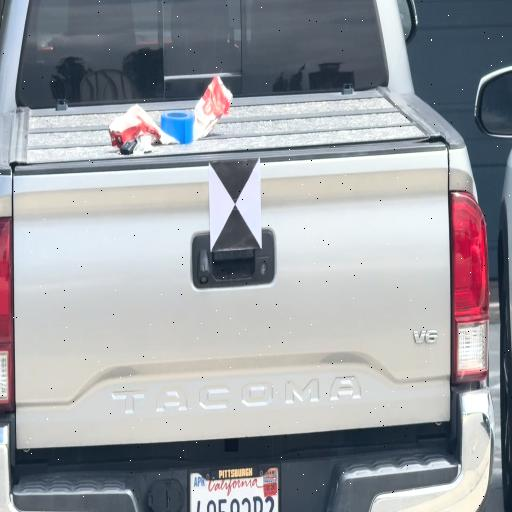target: (208, 158, 262, 251)
